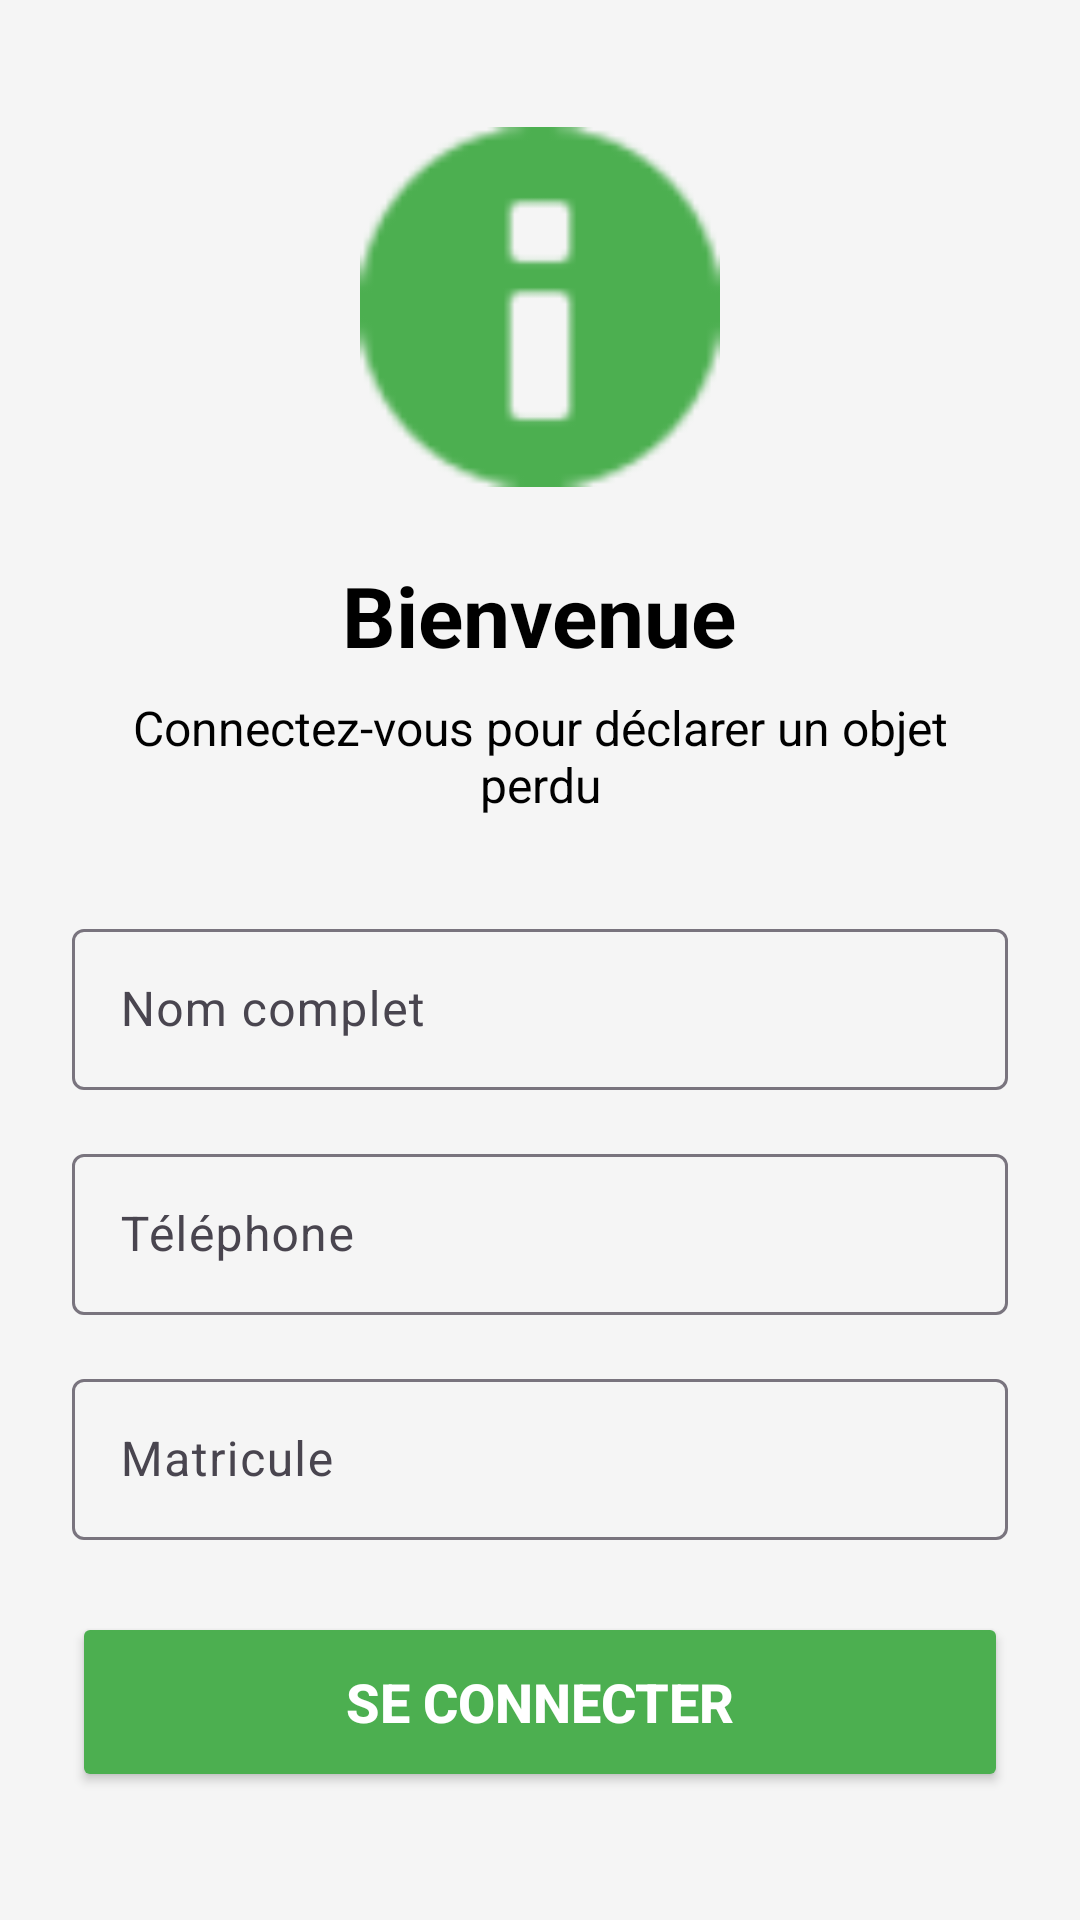

Locate icon controls on the screen. Image size 1080x1920, boxes as (x1, y1, x2, y2).
info: (360, 127, 720, 487)
